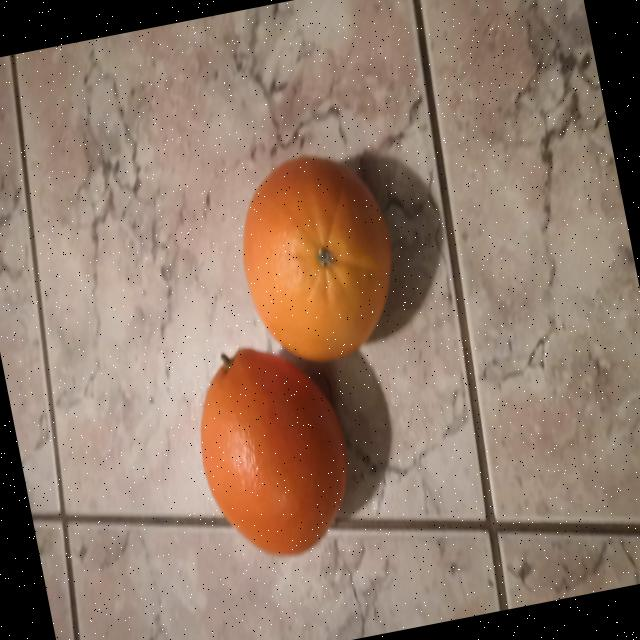orange: (201, 347, 347, 555), (243, 156, 391, 361)
